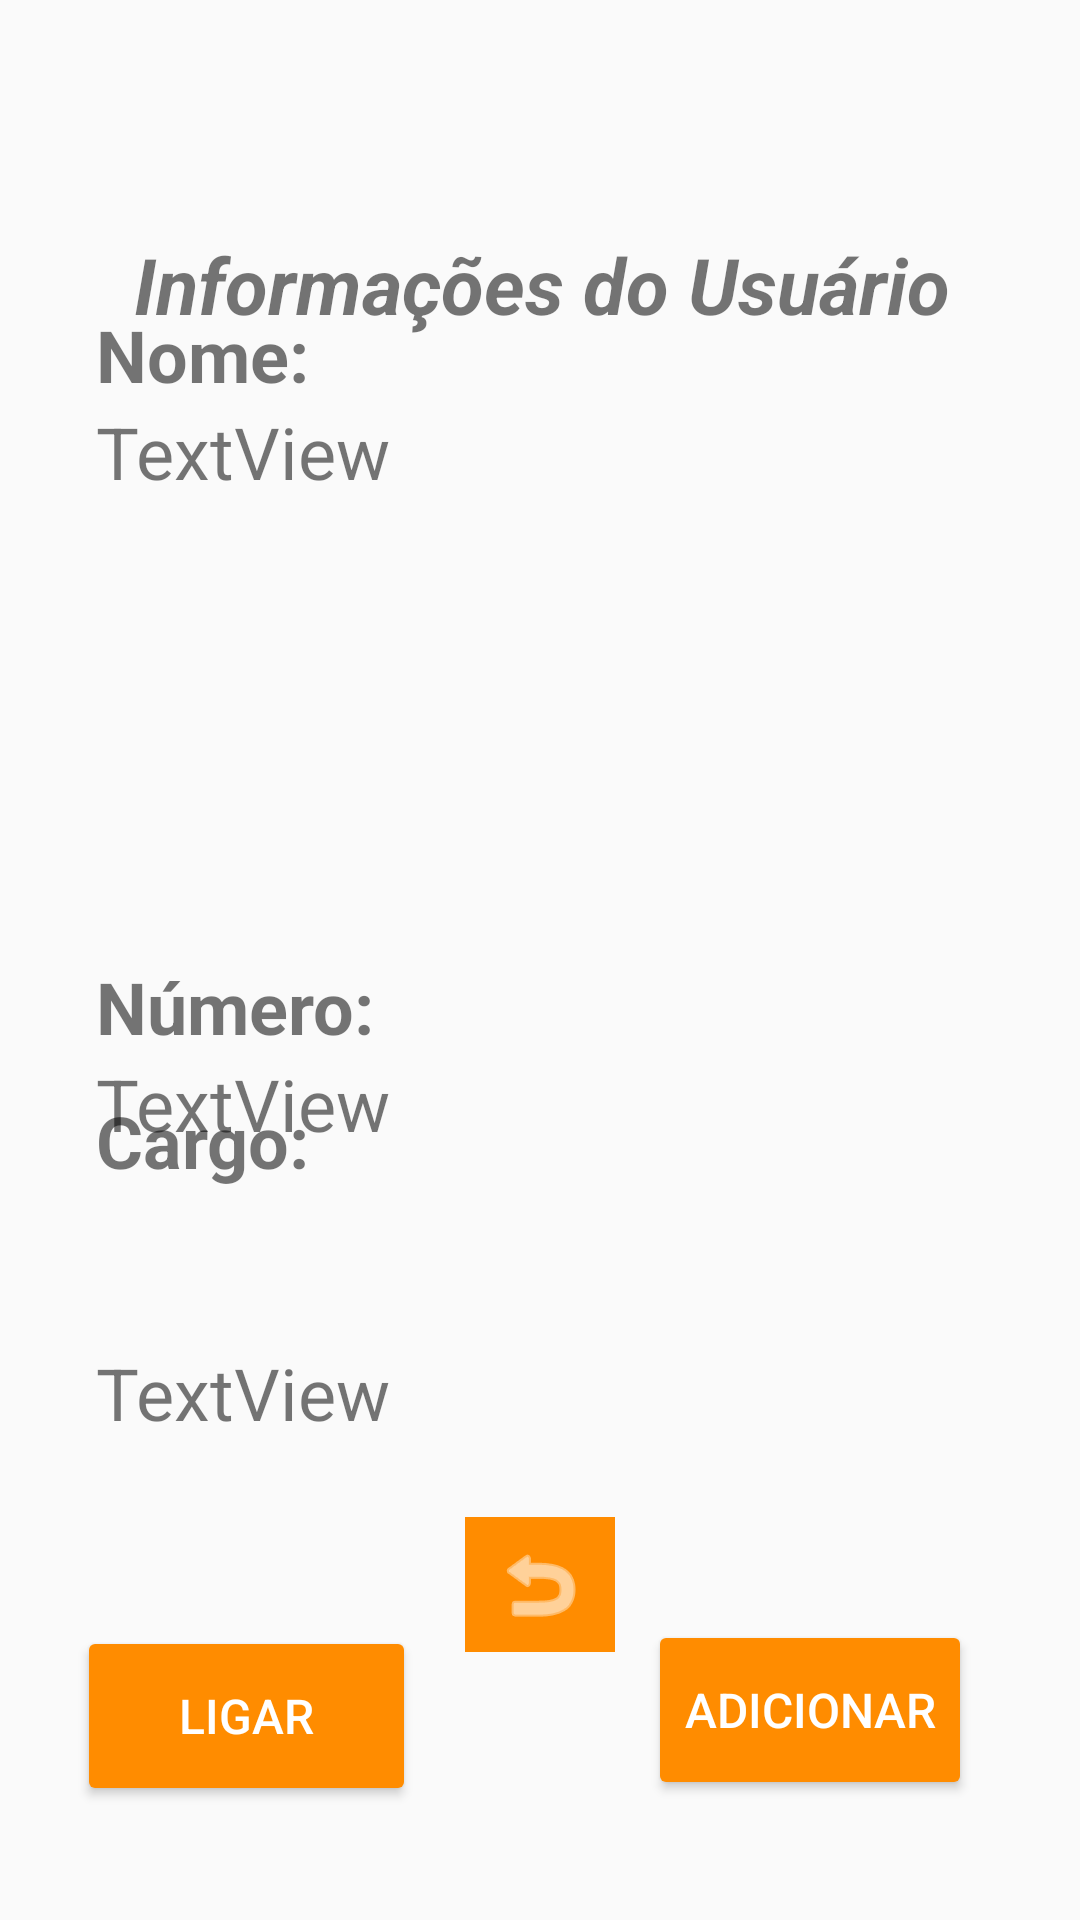

Icon bounding boxes for this 1080w x 1920h phone screenshot, format (x1, y1, x2, y2):
revert: (465, 1517, 615, 1652)
